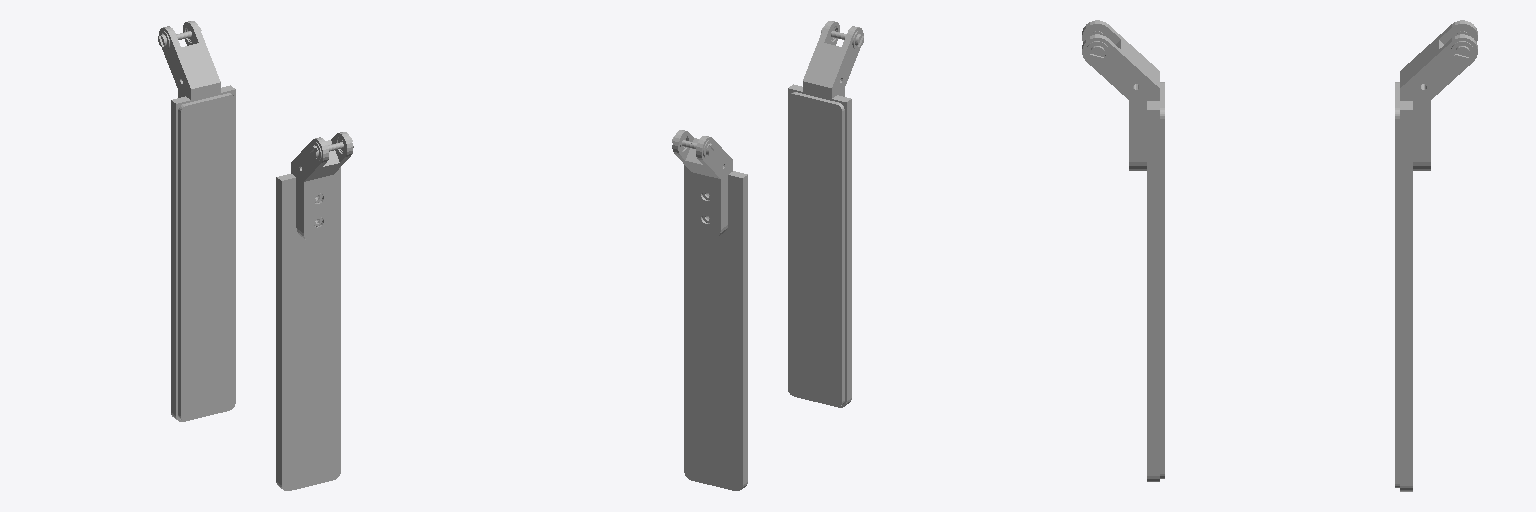
The robot description file, URDF, robot "xarm6_with_gripper":
<?xml version="1.0" encoding="utf-8"?>
<!-- =================================================================================== -->
<!-- |    This document was autogenerated by xacro from xarm6_with_gripper.xacro       | -->
<!-- |    EDITING THIS FILE BY HAND IS NOT RECOMMENDED                                 | -->
<!-- =================================================================================== -->
<robot name="xarm6_with_gripper">
  <!-- <xacro:load_gripper attach_to="$(arg prefix)link6" /> -->
  <!--
  Author: [author] <[email redacted]>
  Contributers:
-->
  <gazebo>
    <plugin filename="libgazebo_ros_control.so" name="gazebo_ros_control">
      <robotNamespace>/xarm</robotNamespace>
      <!-- <controlPeriod>0.0001</controlPeriod> -->
      <robotSimType>gazebo_ros_control/DefaultRobotHWSim</robotSimType>
      <legacyModeNS>true</legacyModeNS>
      <!-- <preserveWorldVelocity>true</preserveWorldVelocity> -->
    </plugin>
  </gazebo>
  <link name="world"/>
  <joint name="world_joint" type="fixed">
    <parent link="world"/>
    <child link="link_base"/>
    <origin rpy="0 0 0" xyz="0 0 0"/>
  </joint>
  <material name="Black">
    <color rgba="0.0 0.0 0.0 1.0"/>
  </material>
  <material name="Red">
    <color rgba="0.8 0.0 0.0 1.0"/>
  </material>
  <material name="White">
    <color rgba="1.0 1.0 1.0 1.0"/>
  </material>
  <material name="Silver">
    <color rgba="0.753 0.753 0.753 1.0"/>
  </material>
  <link name="link_base">
    <visual>
      <geometry>
        <mesh filename="package://xarm_description/meshes/xarm6/visual/base.stl"/>
      </geometry>
      <origin rpy="0 0 0" xyz="0 0 0"/>
      <material name="White"/>
    </visual>
    <collision>
      <geometry>
        <mesh filename="package://xarm_description/meshes/xarm6/collision/base_vhacd.obj"/>
      </geometry>
      <origin rpy="0 0 0" xyz="0 0 0"/>
    </collision>
    <inertial>
      <origin rpy="0 0 0" xyz="0.0 0.0 0.09103"/>
      <mass value="2.7"/>
      <inertia ixx="0.00494875" ixy="-3.5E-06" ixz="1.25E-05" iyy="0.00494174" iyz="1.67E-06" izz="0.002219"/>
    </inertial>
  </link>
  <link name="link1">
    <visual>
      <geometry>
        <mesh filename="package://xarm_description/meshes/xarm6/visual/link1.stl"/>
      </geometry>
      <origin rpy="0 0 0" xyz="0 0 0"/>
      <material name="White"/>
    </visual>
    <collision>
      <geometry>
        <mesh filename="package://xarm_description/meshes/xarm6/collision/link1_vhacd.obj"/>
      </geometry>
      <origin rpy="0 0 0" xyz="0 0 0"/>
    </collision>
    <inertial>
      <origin rpy="0 0 0" xyz="-0.002 0.02692 -0.01332"/>
      <mass value="2.16"/>
      <inertia ixx="0.00539427" ixy="1.095E-05" ixz="1.635E-06" iyy="0.0048979" iyz="0.000793" izz="0.00311573"/>
    </inertial>
  </link>
  <joint name="joint1" type="revolute">
    <parent link="link_base"/>
    <child link="link1"/>
    <origin rpy="0 0 0" xyz="0 0 0.267"/>
    <axis xyz="0 0 1"/>
    <limit effort="50.0" lower="-6.28318530718" upper="6.28318530718" velocity="3.14"/>
    <dynamics damping="1.0" friction="1.0"/>
  </joint>
  <link name="link2">
    <visual>
      <geometry>
        <mesh filename="package://xarm_description/meshes/xarm6/visual/link2.stl"/>
      </geometry>
      <origin rpy="0 0 0" xyz="0 0 0"/>
      <material name="White"/>
      	
    </visual>
    <collision>
      <geometry>
        <mesh filename="package://xarm_description/meshes/xarm6/collision/link2_vhacd2.obj"/>
      </geometry>
      <origin rpy="0 0 0" xyz="0 0 0"/>
    </collision>
    <inertial>
      <origin rpy="0 0 0" xyz="0.03531 -0.21398 0.03386"/>
      <mass value="1.71"/>
      <inertia ixx="0.0248674" ixy="-0.00430651" ixz="-0.00067797" iyy="0.00485548" iyz="0.00457245" izz="0.02387827"/>
    </inertial>
  </link>
  <joint name="joint2" type="revolute">
    <parent link="link1"/>
    <child link="link2"/>
    <origin rpy="-1.5708 0 0" xyz="0 0 0"/>
    <axis xyz="0 0 1"/>
    <limit effort="50.0" lower="-2.059" upper="2.0944" velocity="3.14"/>
    <dynamics damping="1.0" friction="1.0"/>
  </joint>
  <link name="link3">
    <visual>
      <geometry>
        <mesh filename="package://xarm_description/meshes/xarm6/visual/link3.stl"/>
      </geometry>
      <origin rpy="0 0 0" xyz="0 0 0"/>
      <material name="White"/>
    </visual>
    <collision>
      <geometry>
        <mesh filename="package://xarm_description/meshes/xarm6/collision/link3_vhacd.obj"/>
      </geometry>
      <origin rpy="0 0 0" xyz="0 0 0"/>
    </collision>
    <inertial>
      <origin rpy="0 0 0" xyz="0.06781 0.10749 0.01457"/>
      <mass value="1.384"/>
      <inertia ixx="0.0053694" ixy="0.0014185" ixz="-0.00092094" iyy="0.0032423" iyz="-0.00169178" izz="0.00501731"/>
    </inertial>
  </link>
  <joint name="joint3" type="revolute">
    <parent link="link2"/>
    <child link="link3"/>
    <origin rpy="0 0 0" xyz="0.0535 -0.2845 0"/>
    <axis xyz="0 0 1"/>
    <limit effort="32.0" lower="-3.927" upper="0.19198" velocity="3.14"/>
    <dynamics damping="1.0" friction="1.0"/>
  </joint>
  <link name="link4">
    <visual>
      <geometry>
        <mesh filename="package://xarm_description/meshes/xarm6/visual/link4.stl"/>
      </geometry>
      <origin rpy="0 0 0" xyz="0 0 0"/>
      <material name="White"/>
    </visual>
    <collision>
      <geometry>
        <mesh filename="package://xarm_description/meshes/xarm6/collision/link4_vhacd.obj"/>
      </geometry>
      <origin rpy="0 0 0" xyz="0 0 0"/>
    </collision>
    <inertial>
      <origin rpy="0 0 0" xyz="-0.00021 0.02578 -0.02538"/>
      <mass value="1.115"/>
      <inertia ixx="0.00439263" ixy="5.028E-05" ixz="1.374E-05" iyy="0.0040077" iyz="0.00045338" izz="0.00110321"/>
    </inertial>
  </link>
  <joint name="joint4" type="revolute">
    <parent link="link3"/>
    <child link="link4"/>
    <origin rpy="-1.5708 0 0" xyz="0.0775 0.3425 0"/>
    <axis xyz="0 0 1"/>
    <limit effort="32.0" lower="-6.28318530718" upper="6.28318530718" velocity="3.14"/>
    <dynamics damping="1.0" friction="1.0"/>
  </joint>
  <link name="link5">
    <visual>
      <geometry>
        <mesh filename="package://xarm_description/meshes/xarm6/visual/link5.stl"/>
      </geometry>
      <origin rpy="0 0 0" xyz="0 0 0"/>
      <material name="White"/>
    </visual>
    <collision>
      <geometry>
        <mesh filename="package://xarm_description/meshes/xarm6/collision/link5_vhacd.obj"/>
      </geometry>
      <origin rpy="0 0 0" xyz="0 0 0"/>
    </collision>
    <inertial>
      <origin rpy="0 0 0" xyz="0.05428 0.01781 0.00543"/>
      <mass value="1.275"/>
      <inertia ixx="0.001202758" ixy="0.000492428" ixz="-0.00039147" iyy="0.0022876" iyz="-1.235E-04" izz="0.0026866"/>
    </inertial>
  </link>
  <joint name="joint5" type="revolute">
    <parent link="link4"/>
    <child link="link5"/>
    <origin rpy="1.5708 0 0" xyz="0 0 0"/>
    <axis xyz="0 0 1"/>
    <limit effort="32.0" lower="-1.69297" upper="3.14159265359" velocity="3.14"/>
    <dynamics damping="1.0" friction="1.0"/>
  </joint>
  <link name="link6">
    <visual>
      <geometry>
        <mesh filename="package://xarm_description/meshes/xarm6/visual/link6.stl"/>
      </geometry>
      <origin rpy="0 0 0" xyz="0 0 0"/>
      <material name="Silver"/>
    </visual>
    <collision>
      <geometry>
        <mesh filename="package://xarm_description/meshes/xarm6/visual/link6.stl"/>
      </geometry>
      <origin rpy="0 0 0" xyz="0 0 0"/>
    </collision>
    <inertial>
      <origin rpy="0 0 0" xyz="0 0.00064 -0.00952"/>
      <mass value="0.1096"/>
      <inertia ixx="4.5293E-05" ixy="0" ixz="0" iyy="4.8111E-05" iyz="0" izz="7.9715E-05"/>
    </inertial>
  </link>
  <joint name="joint6" type="revolute">
    <parent link="link5"/>
    <child link="link6"/>
    <origin rpy="-1.5708 0 0" xyz="0.076 0.097 0"/>
    <axis xyz="0 0 1"/>
    <limit effort="20.0" lower="-6.28318530718" upper="6.28318530718" velocity="3.14"/>
    <dynamics damping="1.0" friction="1.0"/>
  </joint>
  <transmission name="tran1">
    <type>transmission_interface/SimpleTransmission</type>
    <joint name="joint1">
      <hardwareInterface>hardware_interface/PositionJointInterface</hardwareInterface>
    </joint>
    <actuator name="motor1">
      <hardwareInterface>hardware_interface/PositionJointInterface</hardwareInterface>
      <mechanicalReduction>100</mechanicalReduction>
    </actuator>
  </transmission>
  <transmission name="tran2">
    <type>transmission_interface/SimpleTransmission</type>
    <joint name="joint2">
      <hardwareInterface>hardware_interface/PositionJointInterface</hardwareInterface>
    </joint>
    <actuator name="motor2">
      <hardwareInterface>hardware_interface/PositionJointInterface</hardwareInterface>
      <mechanicalReduction>reduction</mechanicalReduction>
    </actuator>
  </transmission>
  <transmission name="tran3">
    <type>transmission_interface/SimpleTransmission</type>
    <joint name="joint3">
      <hardwareInterface>hardware_interface/PositionJointInterface</hardwareInterface>
    </joint>
    <actuator name="motor3">
      <hardwareInterface>hardware_interface/PositionJointInterface</hardwareInterface>
      <mechanicalReduction>reduction</mechanicalReduction>
    </actuator>
  </transmission>
  <transmission name="tran4">
    <type>transmission_interface/SimpleTransmission</type>
    <joint name="joint4">
      <hardwareInterface>hardware_interface/PositionJointInterface</hardwareInterface>
    </joint>
    <actuator name="motor3">
      <hardwareInterface>hardware_interface/PositionJointInterface</hardwareInterface>
      <mechanicalReduction>reduction</mechanicalReduction>
    </actuator>
  </transmission>
  <transmission name="tran5">
    <type>transmission_interface/SimpleTransmission</type>
    <joint name="joint5">
      <hardwareInterface>hardware_interface/PositionJointInterface</hardwareInterface>
    </joint>
    <actuator name="motor5">
      <hardwareInterface>hardware_interface/PositionJointInterface</hardwareInterface>
      <mechanicalReduction>reduction</mechanicalReduction>
    </actuator>
  </transmission>
  <transmission name="tran6">
    <type>transmission_interface/SimpleTransmission</type>
    <joint name="joint6">
      <hardwareInterface>hardware_interface/PositionJointInterface</hardwareInterface>
    </joint>
    <actuator name="motor6">
      <hardwareInterface>hardware_interface/PositionJointInterface</hardwareInterface>
      <mechanicalReduction>reduction</mechanicalReduction>
    </actuator>
  </transmission>
  <gazebo reference="link_base">
    <selfCollide>true</selfCollide>
  </gazebo>
  <gazebo reference="link1">
    <selfCollide>true</selfCollide>
  </gazebo>
  <gazebo reference="link2">
    <selfCollide>true</selfCollide>
  </gazebo>
  <gazebo reference="link3">
    <selfCollide>true</selfCollide>
  </gazebo>
  <gazebo reference="link4">
    <selfCollide>true</selfCollide>
  </gazebo>
  <gazebo reference="link5">
    <selfCollide>true</selfCollide>
  </gazebo>
  <gazebo reference="link6">
    <selfCollide>true</selfCollide>
  </gazebo>
  <!-- gazebo plugin -->
  <!-- <xacro:gazebo_ros_control_plugin namespace="${ns}"/> -->
  <joint name="gripper_fix" type="fixed">
    <parent link="link6"/>
    <child link="xarm_gripper_base_link"/>
    <origin rpy="0 0 0" xyz="0 0 0"/>
  </joint>
  <link name="xarm_gripper_base_link">
    <inertial>
      <origin rpy="0 0 0" xyz="-0.00065489 -0.0018497 0.048028"/>
      <mass value="0.54156"/>
      <inertia ixx="0.00047106" ixy="3.9292E-07" ixz="2.6537E-06" iyy="0.00033072" iyz="-1.0975E-05" izz="0.00025642"/>
    </inertial>
    <visual>
      <origin rpy="0 0 0" xyz="0 0 0"/>
      <geometry>
        <mesh filename="package://xarm_gripper/meshes/base_link.STL"/>
      </geometry>
      <!-- <material
        name="">
        <color
          rgba="0.89804 0.91765 0.92941 1" />
      </material> -->
      <material name="White">
        <color rgba="1.0 1.0 1.0 1.0"/>
      </material>
    </visual>
    <collision>
      <origin rpy="0 0 0" xyz="0 0 0"/>
      <geometry>
        <mesh filename="package://xarm_gripper/meshes/base_link.STL"/>
      </geometry>
    </collision>
  </link>
  <link name="left_outer_knuckle">
    <inertial>
      <origin rpy="0 0 0" xyz="2.9948E-14 0.021559 0.015181"/>
      <mass value="0.033618"/>
      <inertia ixx="1.9111E-05" ixy="-1.8803E-17" ixz="-1.1002E-17" iyy="6.6256E-06" iyz="-7.3008E-06" izz="1.3185E-05"/>
    </inertial>
    <visual>
      <origin rpy="0 0 0" xyz="0 0 0"/>
      <geometry>
        <mesh filename="package://xarm_gripper/meshes/left_outer_knuckle.STL"/>
      </geometry>
      <material name="Silver">
        <color rgba="0.753 0.753 0.753 1.0"/>
      </material>
    </visual>
    <collision>
      <origin rpy="0 0 0" xyz="0 0 0"/>
      <geometry>
        <mesh filename="package://xarm_gripper/meshes/left_outer_knuckle.STL"/>
      </geometry>
    </collision>
  </link>
  <joint name="left_outer_knuckle_joint" type="revolute">
    <origin rpy="0 0 0" xyz="0 0.035 0.059098"/>
    <parent link="xarm_gripper_base_link"/>
    <child link="left_outer_knuckle"/>
    <axis xyz="1 0 0"/>
    <limit effort="50" lower="0" upper="0.85" velocity="2"/>
  </joint>
  <link name="left_finger">
    <inertial>
      <origin rpy="0 0 0" xyz="-2.4536E-14 -0.016413 0.029258"/>
      <mass value="0.048304"/>
      <inertia ixx="1.7493E-05" ixy="-4.2156E-19" ixz="6.9164E-18" iyy="1.7225E-05" iyz="4.6433E-06" izz="5.1466E-06"/>
    </inertial>
    <visual>
      <origin rpy="0 0 0" xyz="0 0 0"/>
      <geometry>
        <mesh filename="package://xarm_gripper/meshes/left_finger.STL"/>
      </geometry>
      <material name="Silver">
        <color rgba="0.753 0.753 0.753 1.0"/>
      </material>
    </visual>
    <collision>
      <origin rpy="0 0 0" xyz="0 0 0"/>
      <geometry>
        <mesh filename="package://xarm_gripper/meshes/left_finger.STL"/>
      </geometry>
    </collision>
  </link>
  <joint name="left_finger_joint" type="revolute">
    <origin rpy="0 0 0" xyz="0 0.035465 0.042039"/>
    <parent link="left_outer_knuckle"/>
    <child link="left_finger"/>
    <axis xyz="-1 0 0"/>
    <limit effort="50" lower="0" upper="0.85" velocity="2"/>
    <mimic joint="left_outer_knuckle_joint" multiplier="1" offset="0"/>
  </joint>
  <link name="left_inner_knuckle">
    <inertial>
      <origin rpy="0 0 0" xyz="1.86600784687907E-06 0.0220467847633621 0.0261334672830885"/>
      <mass value="0.0230125781256706"/>
      <inertia ixx="6.09490024271906E-06" ixy="6.06651326160071E-11" ixz="7.19102670500635E-11" iyy="6.01955084375188E-06" iyz="-2.75316812991721E-06" izz="5.07862004479903E-06"/>
    </inertial>
    <visual>
      <origin rpy="0 0 0" xyz="0 0 0"/>
      <geometry>
        <mesh filename="package://xarm_gripper/meshes/left_inner_knuckle.STL"/>
      </geometry>
      <material name="Silver">
        <color rgba="0.753 0.753 0.753 1.0"/>
      </material>
    </visual>
    <collision>
      <origin rpy="0 0 0" xyz="0 0 0"/>
      <geometry>
        <mesh filename="package://xarm_gripper/meshes/left_inner_knuckle.STL"/>
      </geometry>
    </collision>
  </link>
  <joint name="left_inner_knuckle_joint" type="revolute">
    <origin rpy="0 0 0" xyz="0 0.02 0.074098"/>
    <parent link="xarm_gripper_base_link"/>
    <child link="left_inner_knuckle"/>
    <axis xyz="1 0 0"/>
    <limit effort="50" lower="0" upper="0.85" velocity="2"/>
    <mimic joint="left_outer_knuckle_joint" multiplier="1" offset="0"/>
  </joint>
  <link name="right_outer_knuckle">
    <inertial>
      <origin rpy="0 0 0" xyz="-3.1669E-14 -0.021559 0.015181"/>
      <mass value="0.033618"/>
      <inertia ixx="1.9111E-05" ixy="-1.8789E-17" ixz="1.0986E-17" iyy="6.6256E-06" iyz="7.3008E-06" izz="1.3185E-05"/>
    </inertial>
    <visual>
      <origin rpy="0 0 0" xyz="0 0 0"/>
      <geometry>
        <mesh filename="package://xarm_gripper/meshes/right_outer_knuckle.STL"/>
      </geometry>
      <material name="Silver">
        <color rgba="0.753 0.753 0.753 1.0"/>
      </material>
    </visual>
    <collision>
      <origin rpy="0 0 0" xyz="0 0 0"/>
      <geometry>
        <mesh filename="package://xarm_gripper/meshes/right_outer_knuckle.STL"/>
      </geometry>
    </collision>
  </link>
  <joint name="right_outer_knuckle_joint" type="revolute">
    <origin rpy="0 0 0" xyz="0 -0.035 0.059098"/>
    <parent link="xarm_gripper_base_link"/>
    <child link="right_outer_knuckle"/>
    <axis xyz="-1 0 0"/>
    <limit effort="50" lower="0" upper="0.85" velocity="2"/>
    <mimic joint="left_outer_knuckle_joint" multiplier="1" offset="0"/>
  </joint>
  <link name="right_finger">
    <inertial>
      <origin rpy="0 0 0" xyz="2.5618E-14 0.016413 0.029258"/>
      <mass value="0.048304"/>
      <inertia ixx="1.7493E-05" ixy="-5.0014E-19" ixz="-7.5079E-18" iyy="1.7225E-05" iyz="-4.6435E-06" izz="5.1466E-06"/>
    </inertial>
    <visual>
      <origin rpy="0 0 0" xyz="0 0 0"/>
      <geometry>
        <mesh filename="package://xarm_gripper/meshes/right_finger.STL"/>
      </geometry>
      <material name="Silver">
        <color rgba="0.753 0.753 0.753 1.0"/>
      </material>
    </visual>
    <collision>
      <origin rpy="0 0 0" xyz="0 0 0"/>
      <geometry>
        <mesh filename="package://xarm_gripper/meshes/right_finger.STL"/>
      </geometry>
    </collision>
  </link>
  <joint name="right_finger_joint" type="revolute">
    <origin rpy="0 0 0" xyz="0 -0.035465 0.042039"/>
    <parent link="right_outer_knuckle"/>
    <child link="right_finger"/>
    <axis xyz="1 0 0"/>
    <limit effort="50" lower="0" upper="0.85" velocity="2"/>
    <mimic joint="left_outer_knuckle_joint" multiplier="1" offset="0"/>
  </joint>
  <link name="right_inner_knuckle">
    <inertial>
      <origin rpy="0 0 0" xyz="1.866E-06 -0.022047 0.026133"/>
      <mass value="0.023013"/>
      <inertia ixx="6.0949E-06" ixy="-6.0665E-11" ixz="7.191E-11" iyy="6.0197E-06" iyz="2.7531E-06" izz="5.0784E-06"/>
    </inertial>
    <visual>
      <origin rpy="0 0 0" xyz="0 0 0"/>
      <geometry>
        <mesh filename="package://xarm_gripper/meshes/right_inner_knuckle.STL"/>
      </geometry>
      <material name="Silver">
        <color rgba="0.753 0.753 0.753 1.0"/>
      </material>
    </visual>
    <collision>
      <origin rpy="0 0 0" xyz="0 0 0"/>
      <geometry>
        <mesh filename="package://xarm_gripper/meshes/right_inner_knuckle.STL"/>
      </geometry>
    </collision>
  </link>
  <joint name="right_inner_knuckle_joint" type="revolute">
    <origin rpy="0 0 0" xyz="0 -0.02 0.074098"/>
    <parent link="xarm_gripper_base_link"/>
    <child link="right_inner_knuckle"/>
    <axis xyz="-1 0 0"/>
    <limit effort="50" lower="0" upper="0.85" velocity="2"/>
    <mimic joint="left_outer_knuckle_joint" multiplier="1" offset="0"/>
  </joint>
  <transmission name="left_outer_knuckle_joint_trans">
    <type>transmission_interface/SimpleTransmission</type>
    <joint name="left_outer_knuckle_joint">
      <hardwareInterface>hardware_interface/PositionJointInterface</hardwareInterface>
    </joint>
    <actuator name="left_outer_knuckle_joint_motor">
      <hardwareInterface>hardware_interface/PositionJointInterface</hardwareInterface>
      <mechanicalReduction>1</mechanicalReduction>
    </actuator>
  </transmission>
  <gazebo reference="xarm_gripper_base_link">
    <selfCollide>true</selfCollide>
  </gazebo>
  <gazebo reference="left_outer_knuckle">
    <selfCollide>true</selfCollide>
  </gazebo>
  <gazebo reference="left_finger">
    <selfCollide>true</selfCollide>
  </gazebo>
  <gazebo reference="left_inner_knuckle">
    <selfCollide>true</selfCollide>
  </gazebo>
  <gazebo reference="right_outer_knuckle">
    <selfCollide>true</selfCollide>
  </gazebo>
  <gazebo reference="right_finger">
    <selfCollide>true</selfCollide>
  </gazebo>
  <gazebo reference="right_inner_knuckle">
    <selfCollide>true</selfCollide>
  </gazebo>
</robot>

--- Render facts (derived) ---
The picture shows the robot from 3 angles, left to right: view 1: azimuth 30°, elevation 25°; view 2: azimuth 150°, elevation 25°; view 3: azimuth 270°, elevation 25°; orthographic projection.
Robot: xarm6_with_gripper — 15 links, 14 joints (12 revolute, 2 fixed); root link world; default pose: all joints at 0.
Visible links, largest first — view 1: right_finger, left_finger; view 2: left_finger, right_finger; view 3: right_finger, left_finger.
Boxes of the visible links, left/top/right/bottom form: right_finger: left=158, top=21, right=235, bottom=421; left_finger: left=276, top=132, right=353, bottom=490; left_finger: left=788, top=21, right=863, bottom=407; right_finger: left=672, top=130, right=747, bottom=490; right_finger: left=1395, top=20, right=1477, bottom=491; left_finger: left=1082, top=20, right=1164, bottom=481.
Bounding box of the posed robot: 0.032 × 0.1528 × 0.1909 m (x, y, z).
2 mesh visuals loaded from 14 distinct referenced files (2 binary STL); not drawn: 12 (reference not matched to a file when rendering).